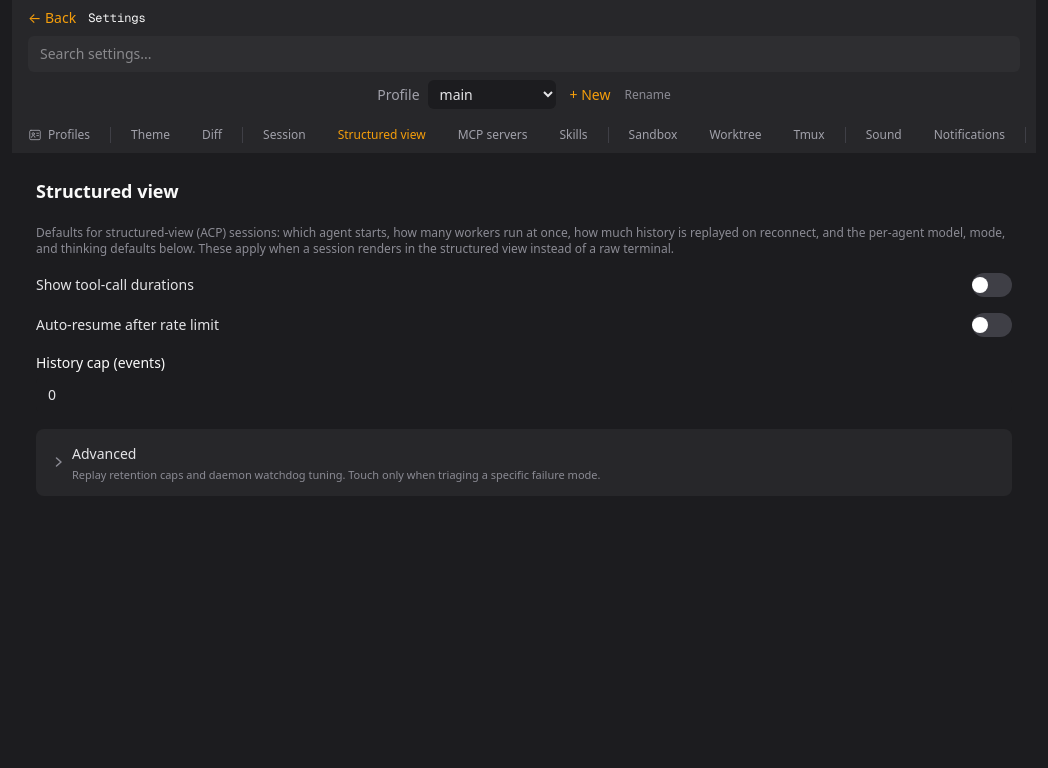
Test: Settings Advanced fold › hides structured-view advanced knobs until the fold is expanded (#2)
Expected: the text "Show tool-call durations" is shown, left=36, top=275, right=194, bottom=295
Expected: the text "History cap (events)" is shown, left=36, top=353, right=165, bottom=372
What coordinates should you click on to do the following:
click the button that starts with "Advanced"
I would click on:
 (104, 454)
Its box is left=36, top=429, right=1012, bottom=496.
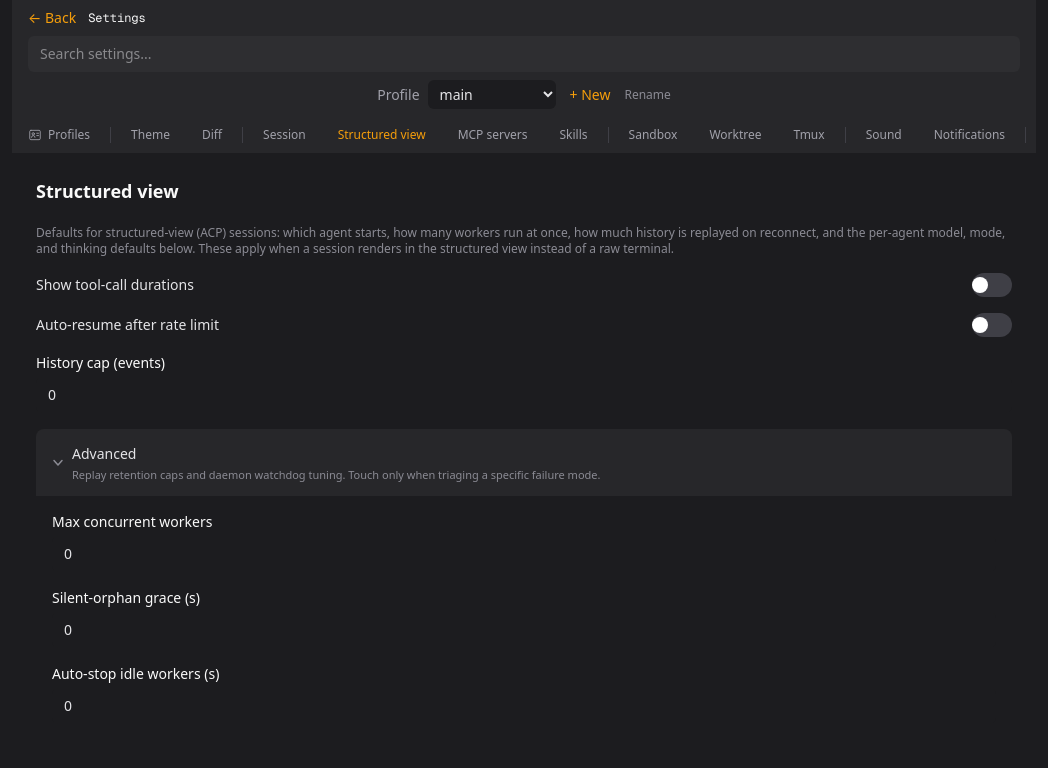
Now the text "Max concurrent workers" is shown, box left=52, top=512, right=212, bottom=530
Now the text "Silent-orphan grace (s)" is shown, box left=52, top=588, right=200, bottom=606
